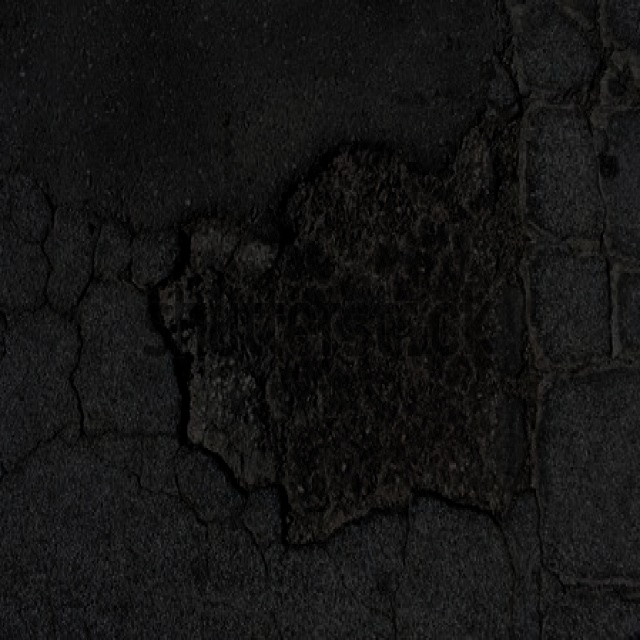Pothole: (143, 128, 538, 553)
